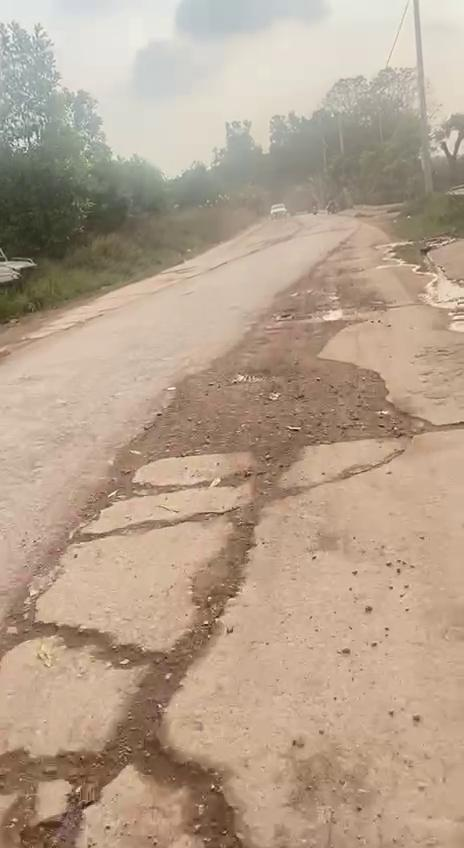pothole: (0, 466, 290, 684), (0, 704, 246, 848)
